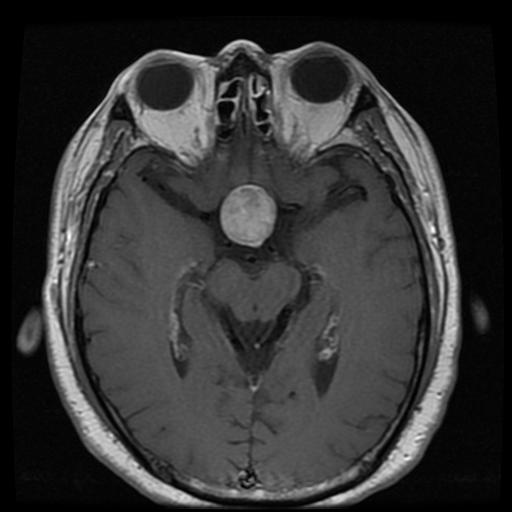Pituirity_tumour: (221, 184, 275, 246)
